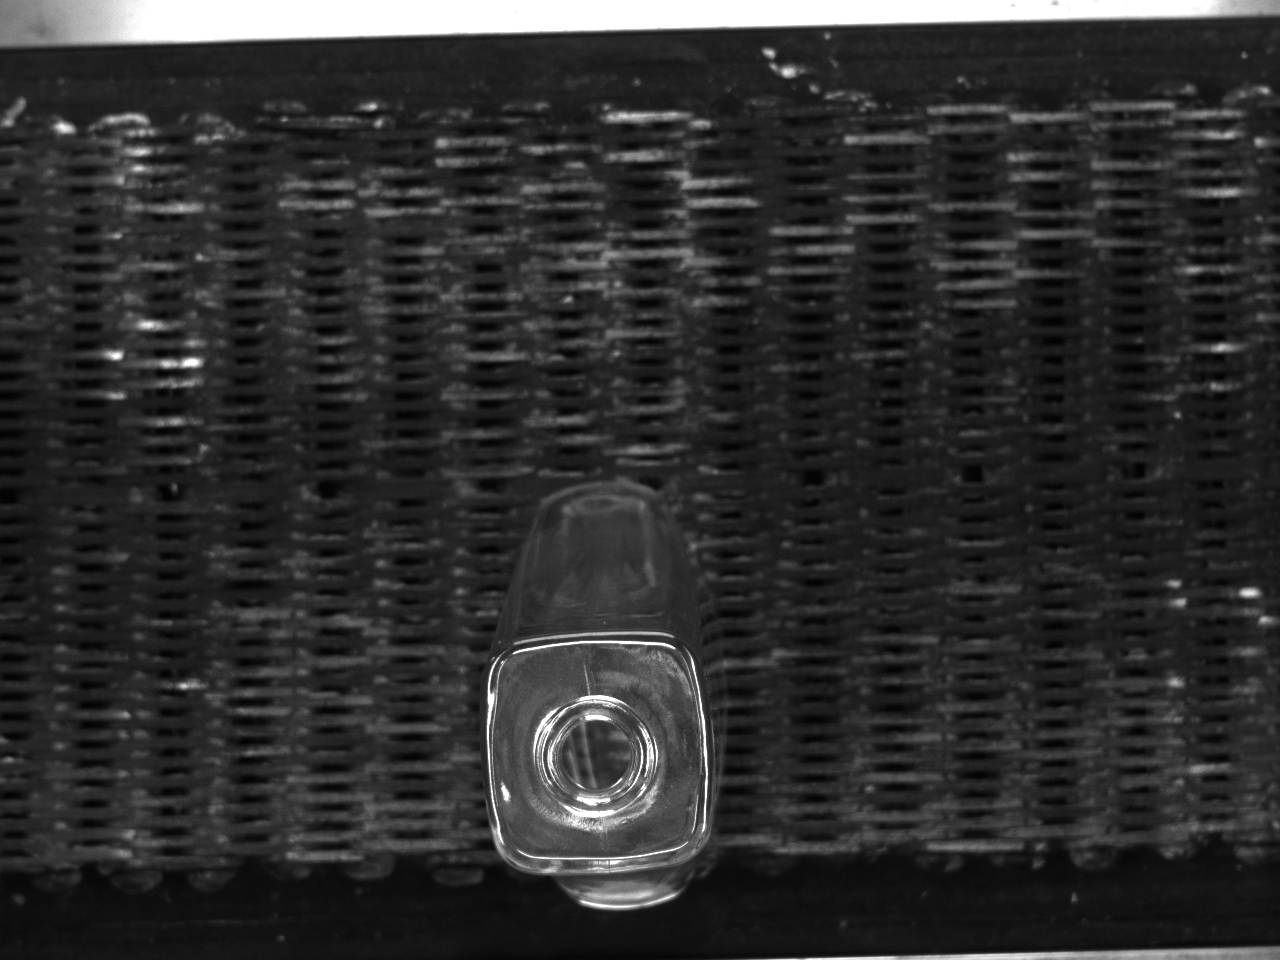bottleneck: (534, 694, 659, 815)
